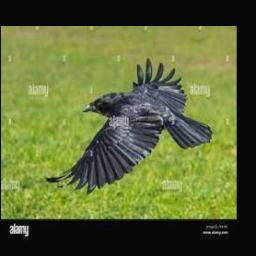Crow: (44, 59, 212, 195)
